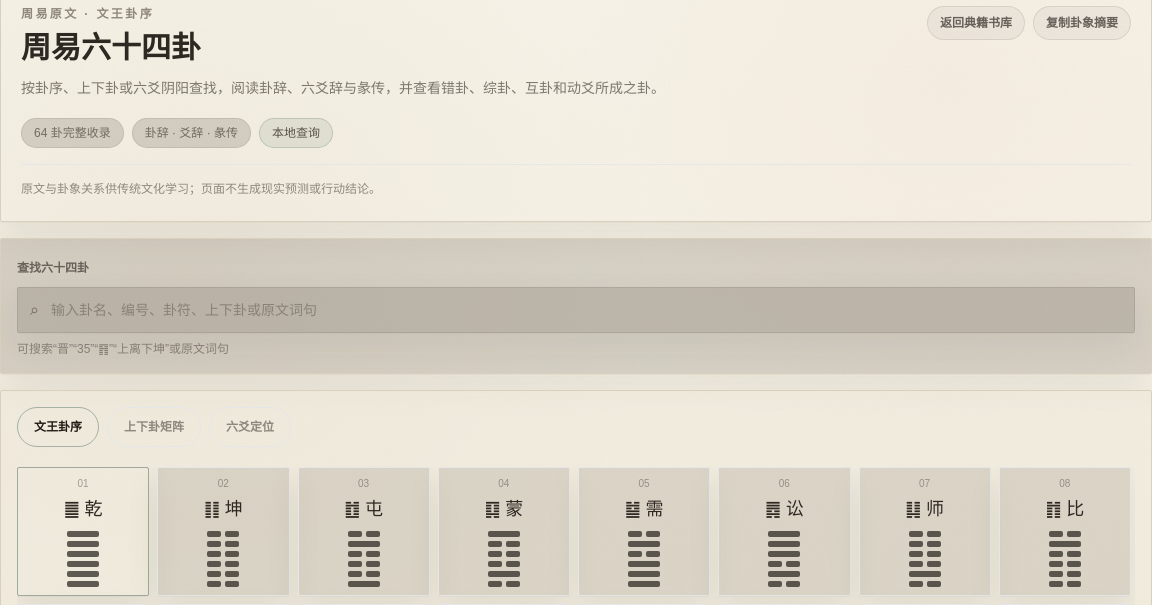
IchingLibrary › 上下卦矩阵完整覆盖 64 个组合
Click the tab "上下卦矩阵" at (154, 427), box [107,407,201,447]
(page scrolled)
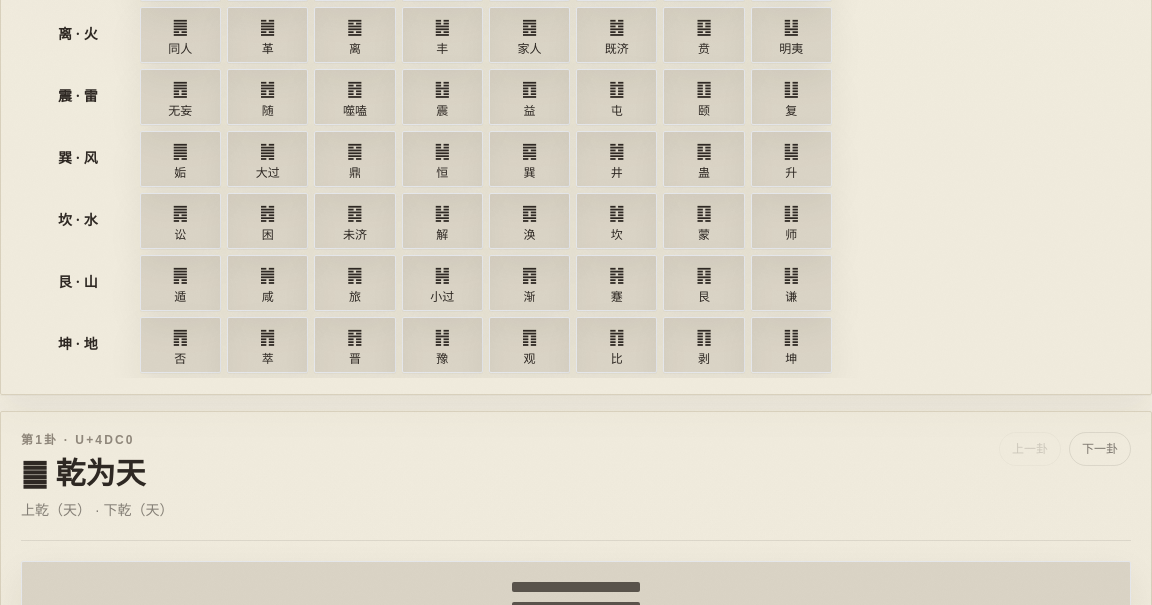
Now the button named "上离下坤，第35卦晋" is shown, box [314,317,396,373]
